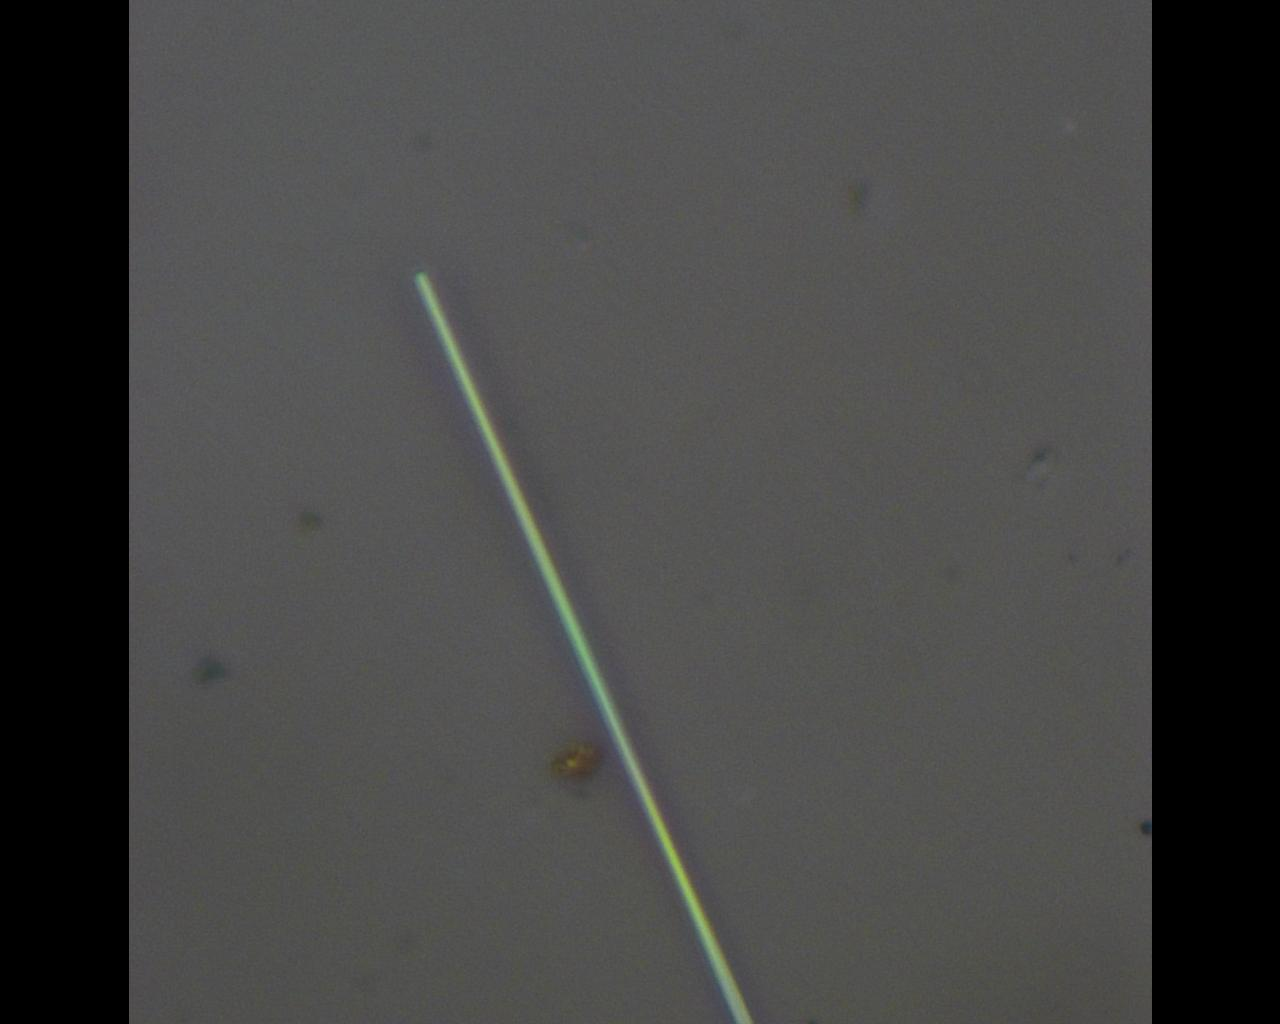fiber: (415, 272, 754, 1024)
